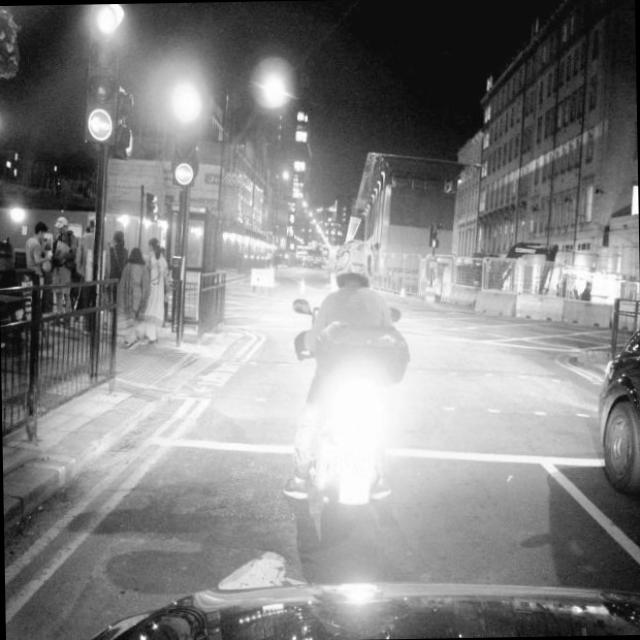Light: (84, 3, 126, 107), (172, 88, 200, 161), (116, 91, 135, 156)
Sign: (83, 107, 117, 147), (172, 162, 195, 186)
